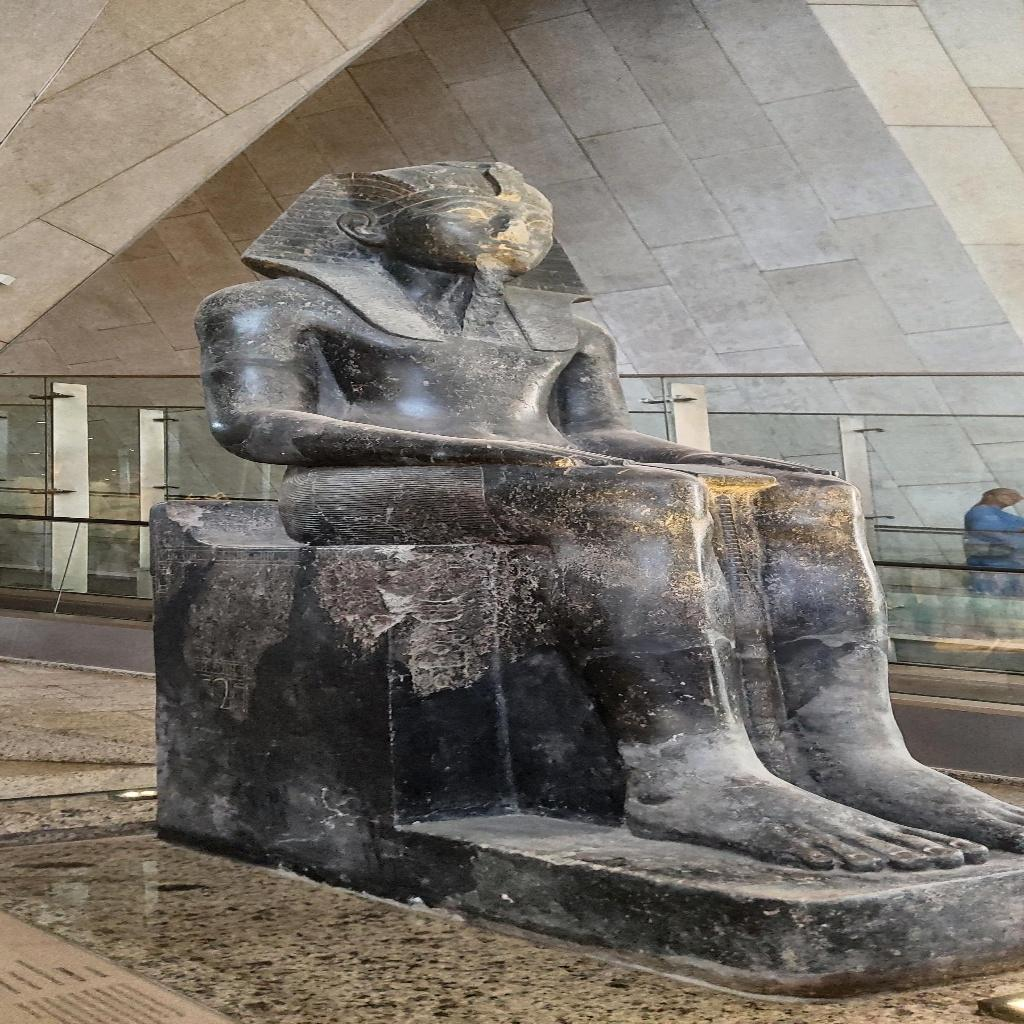Seated Statue of Thutmose III: (176, 157, 1012, 878)
